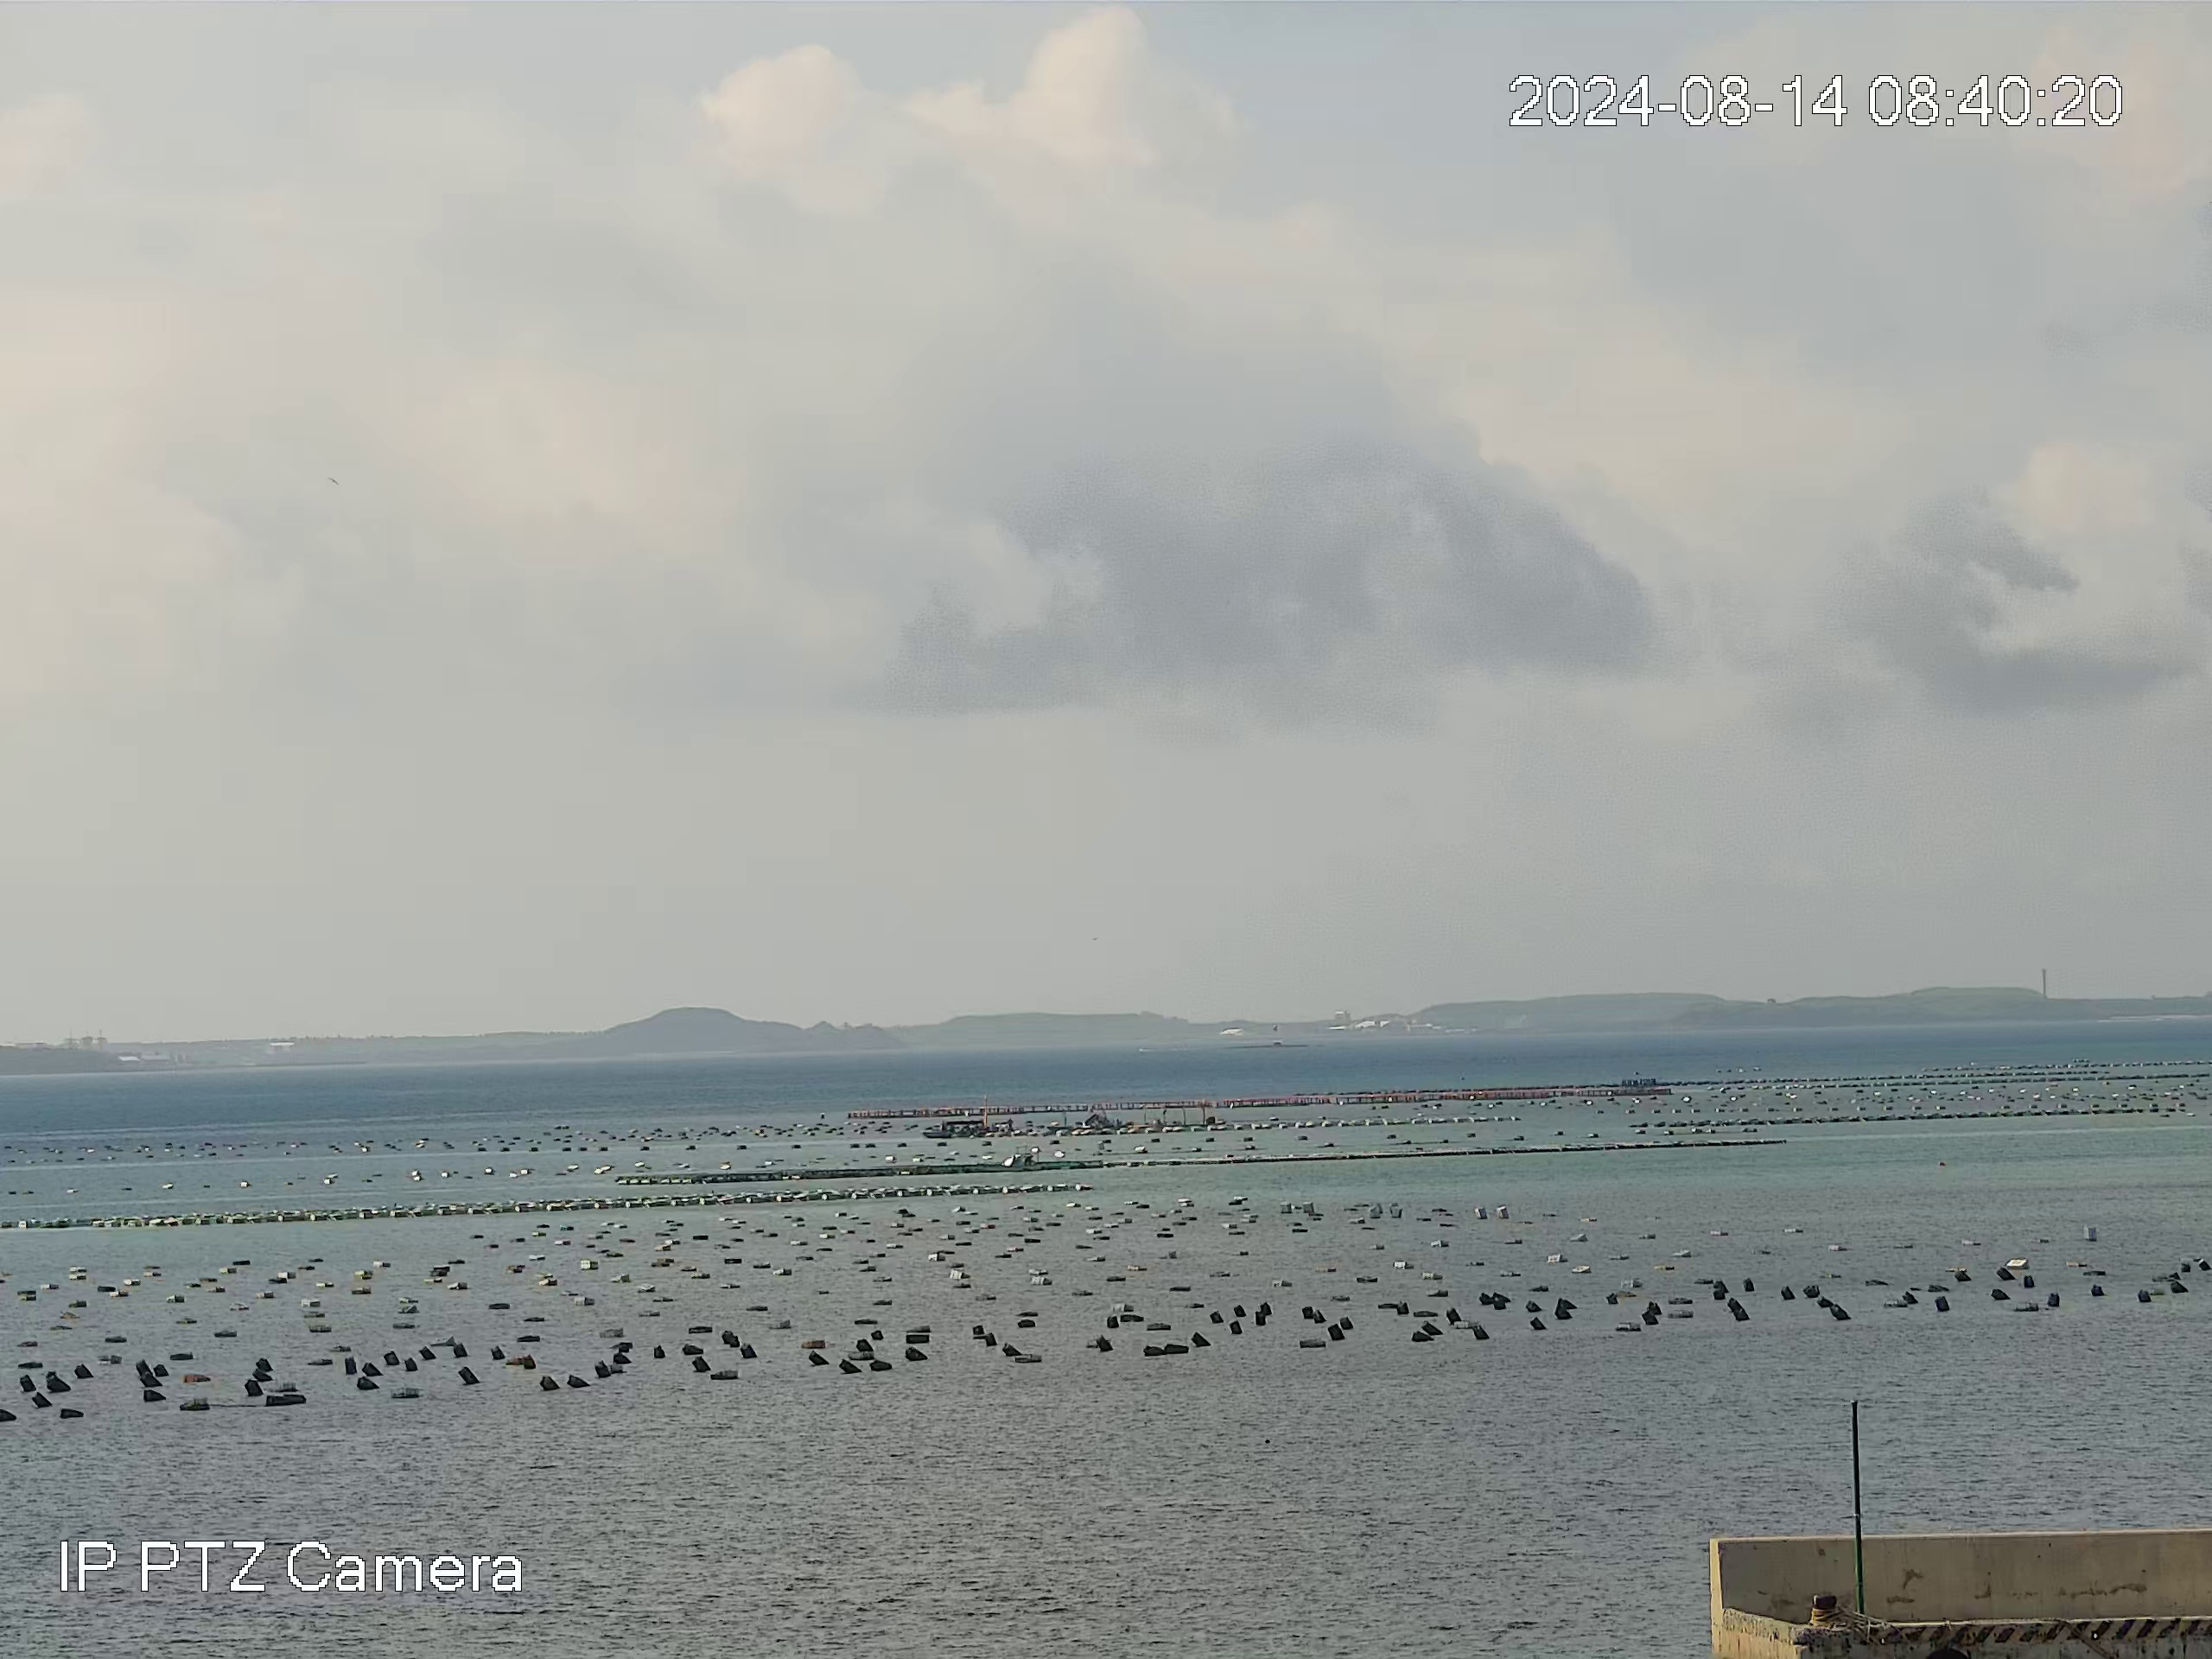boat: (923, 1114, 988, 1140)
